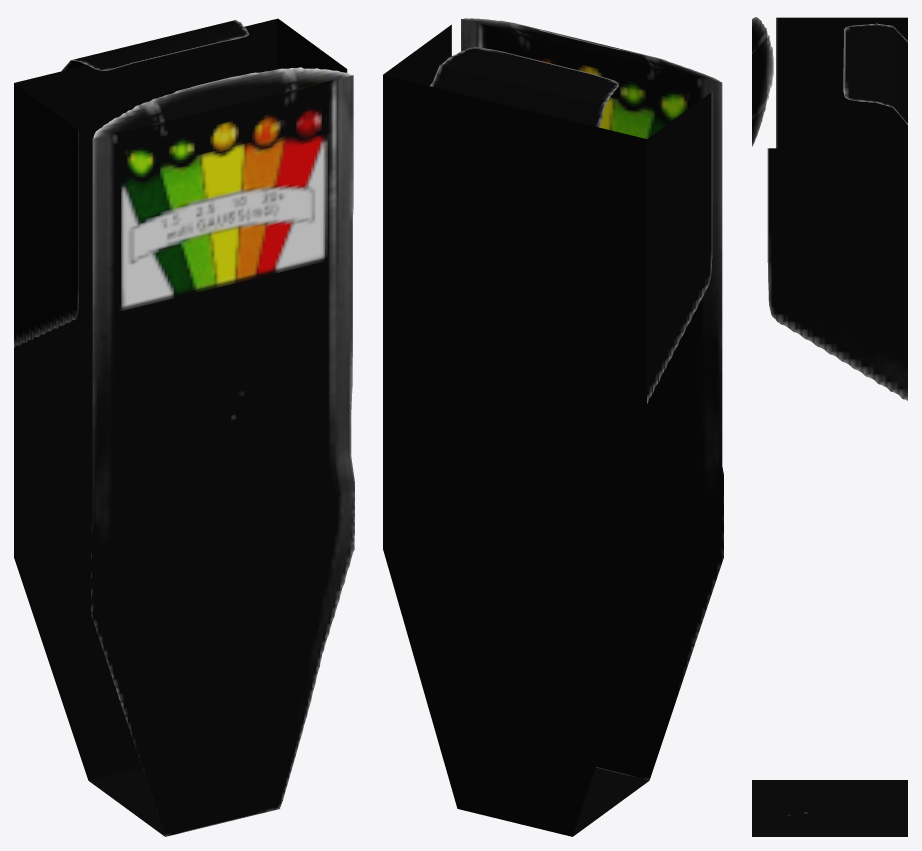
The model's file is EMF.fbx.
The picture shows the model from 3 angles, left to right: view 1: azimuth 30°, elevation 25°; view 2: azimuth 150°, elevation 25°; view 3: azimuth 270°, elevation 25°; orthographic projection.
Visible parts, largest first — view 1: Cube; view 2: Cube; view 3: Cube.
Boxes of the visible parts, x1=… form: Cube: x1=14, y1=18, x2=354, y2=836; Cube: x1=383, y1=18, x2=723, y2=836; Cube: x1=752, y1=17, x2=907, y2=836.
Size of the model in its own units: 23.39 by 62.38 by 11.79.
